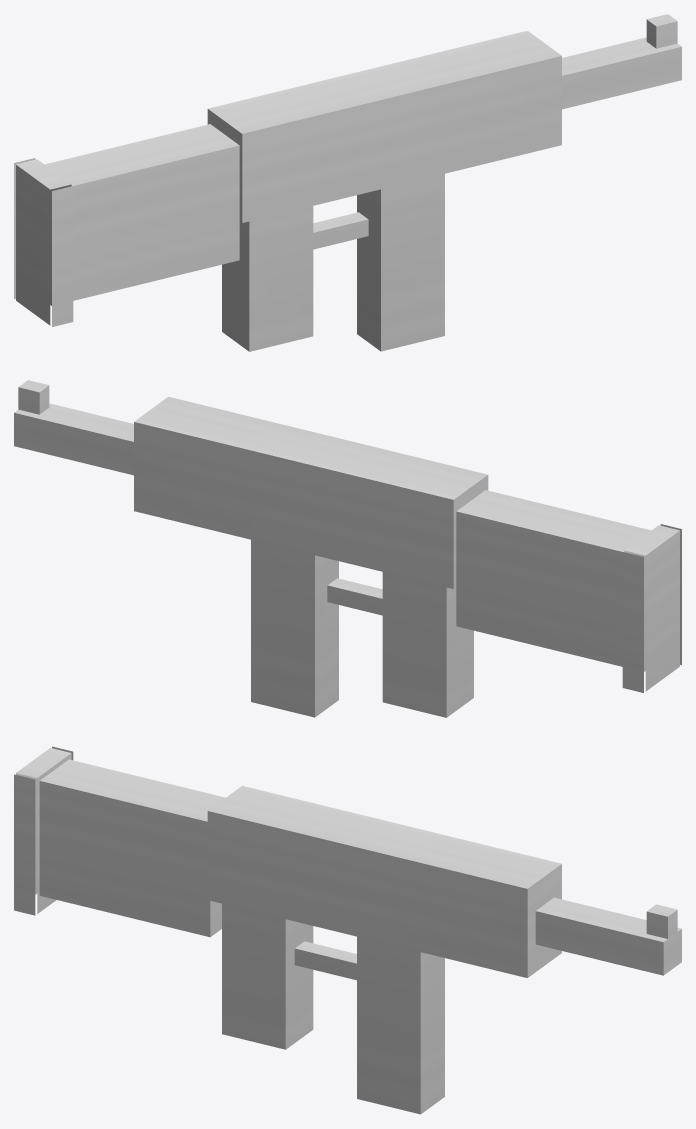
File: smg.obj
The picture shows the model from 3 angles, top to bottom: view 1: azimuth 30°, elevation 25°; view 2: azimuth 150°, elevation 25°; view 3: azimuth 330°, elevation 25°; orthographic projection.
Parts seen in each view (by area): view 1: smg; view 2: smg; view 3: smg.
Part boxes in pixels (x1=…): smg: x1=14, y1=14, x2=681, y2=351; smg: x1=14, y1=380, x2=681, y2=717; smg: x1=14, y1=746, x2=681, y2=1114.
Bounding box in the file's own units: 0.6 × 0.23 × 0.062.
